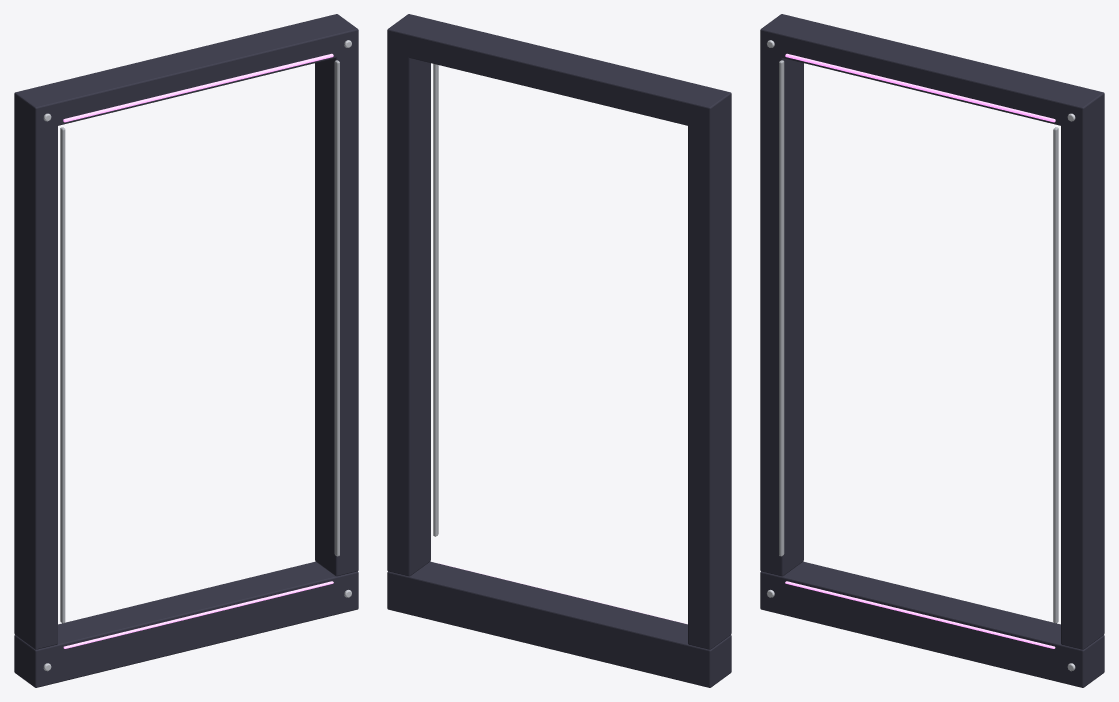
File: cabinet.glb
3 renders of one model, left to right at view 1: azimuth 30°, elevation 25°; view 2: azimuth 150°, elevation 25°; view 3: azimuth 330°, elevation 25°, orthographic.
Visible parts, largest first — view 1: cabinet; view 2: cabinet; view 3: cabinet.
Part boxes in pixels (bbox=[...]): cabinet: bbox=[14, 14, 358, 687]; cabinet: bbox=[387, 14, 731, 687]; cabinet: bbox=[760, 14, 1104, 687].
Bounding box in the file's own units: 7.8 × 13.38 × 1.08.
